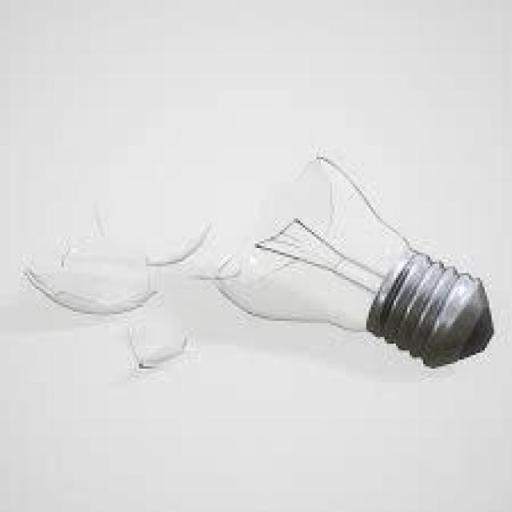glass: (215, 155, 402, 325), (24, 252, 158, 314)
